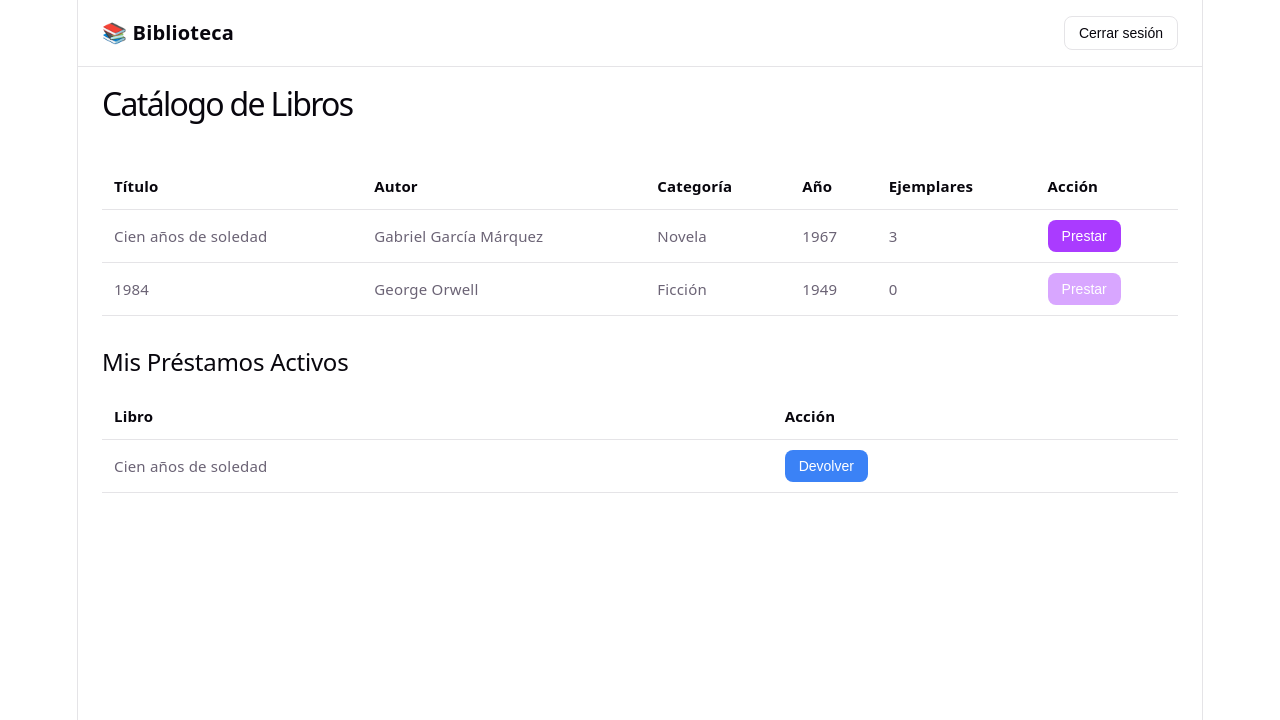
Test: Dashboard › registra una devolución al hacer clic en "Devolver"
Expected: the heading "Mis Préstamos Activos" is shown, [102,345,348,378]
Click the button "Devolver". click: {"x": 826, "y": 466}
box: [785,450,868,482]
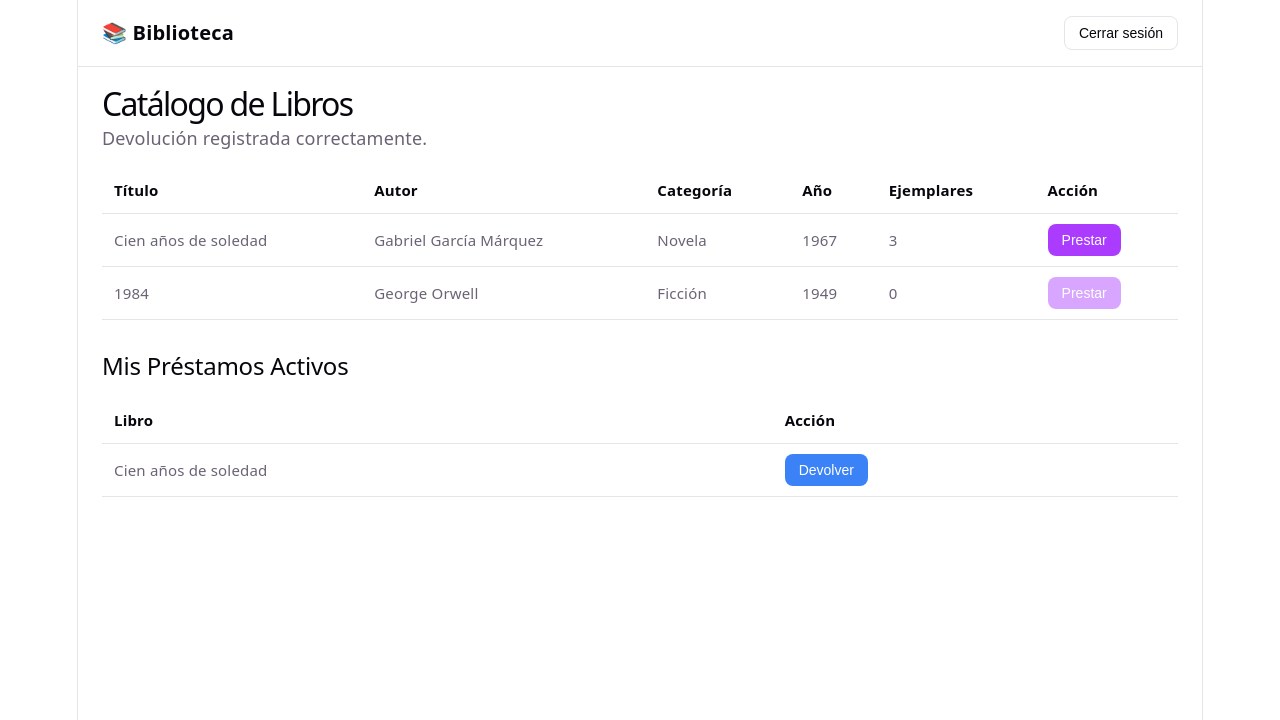
Expected: the text "Devolución registrada correctamente." is shown, [102,126,427,150]
